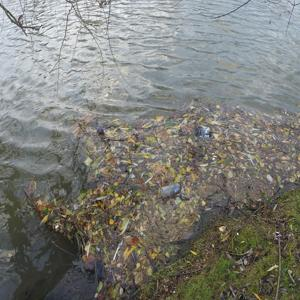plastic: (95, 123, 120, 145)
plastic bottle: (188, 117, 220, 146), (153, 180, 190, 202)
